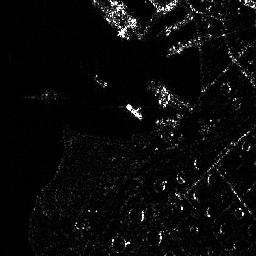ship: (124, 102, 143, 121)
